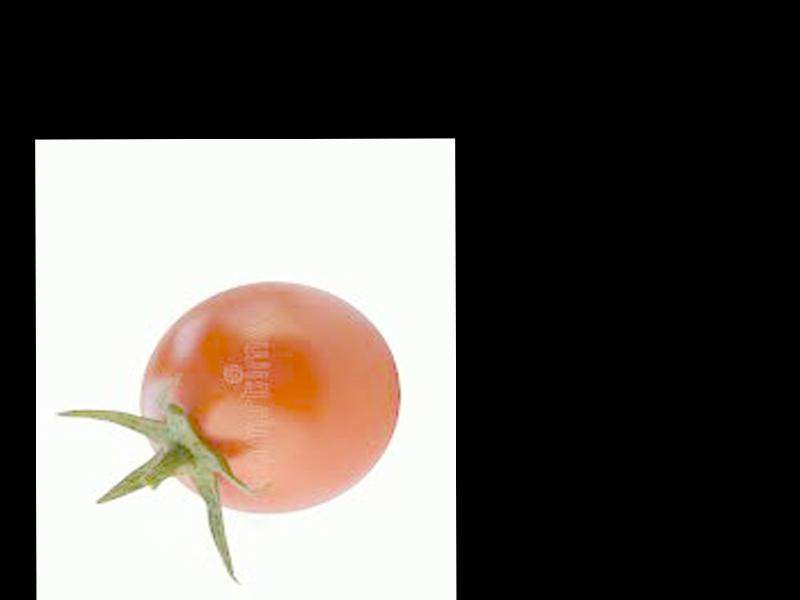Tomato: (141, 280, 401, 511)
